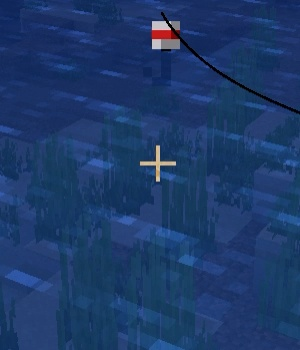up: (147, 13, 191, 85)
